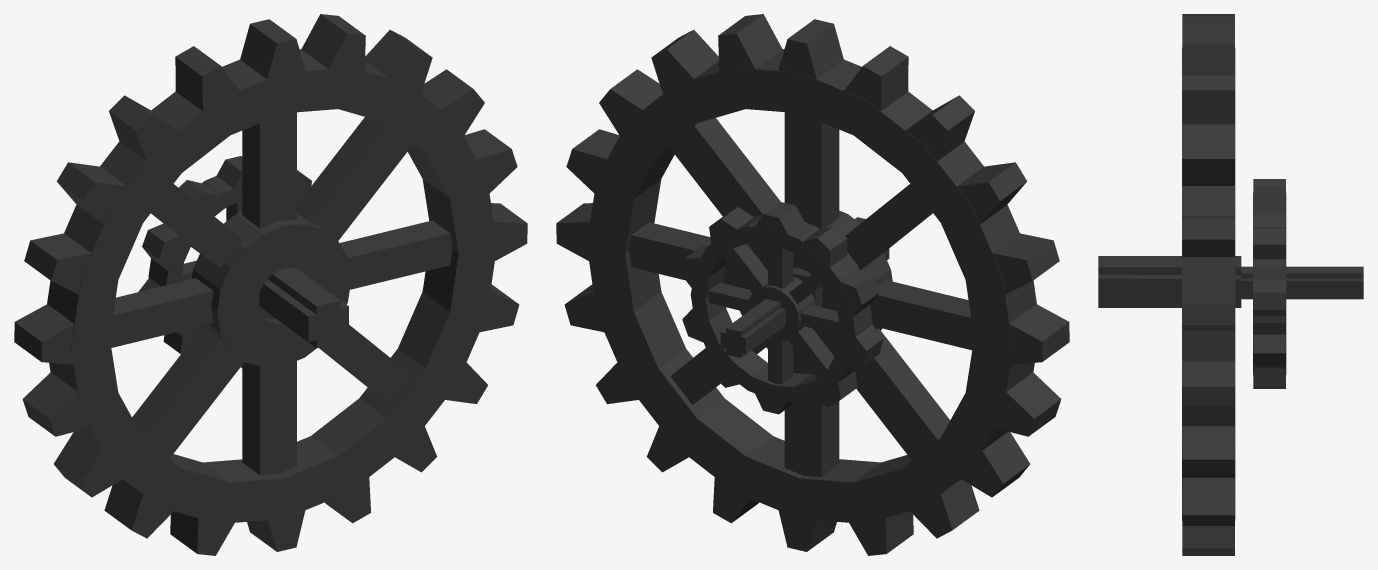
Rendered from gear1_geo.obj.
3 views of the same model, side by side, from view 1: azimuth 30°, elevation 25°; view 2: azimuth 150°, elevation 25°; view 3: azimuth 270°, elevation 25° (orthographic). The views are drawn at different scales.
Visible parts, largest first — view 1: gear1_geo; view 2: gear1_geo; view 3: gear1_geo.
Part boxes in pixels (left/top/right/bottom): gear1_geo: left=14, top=14, right=527, bottom=555; gear1_geo: left=556, top=14, right=1069, bottom=555; gear1_geo: left=1098, top=14, right=1363, bottom=555.
Bounding box in the file's own units: 0.256 × 0.256 × 0.125.
